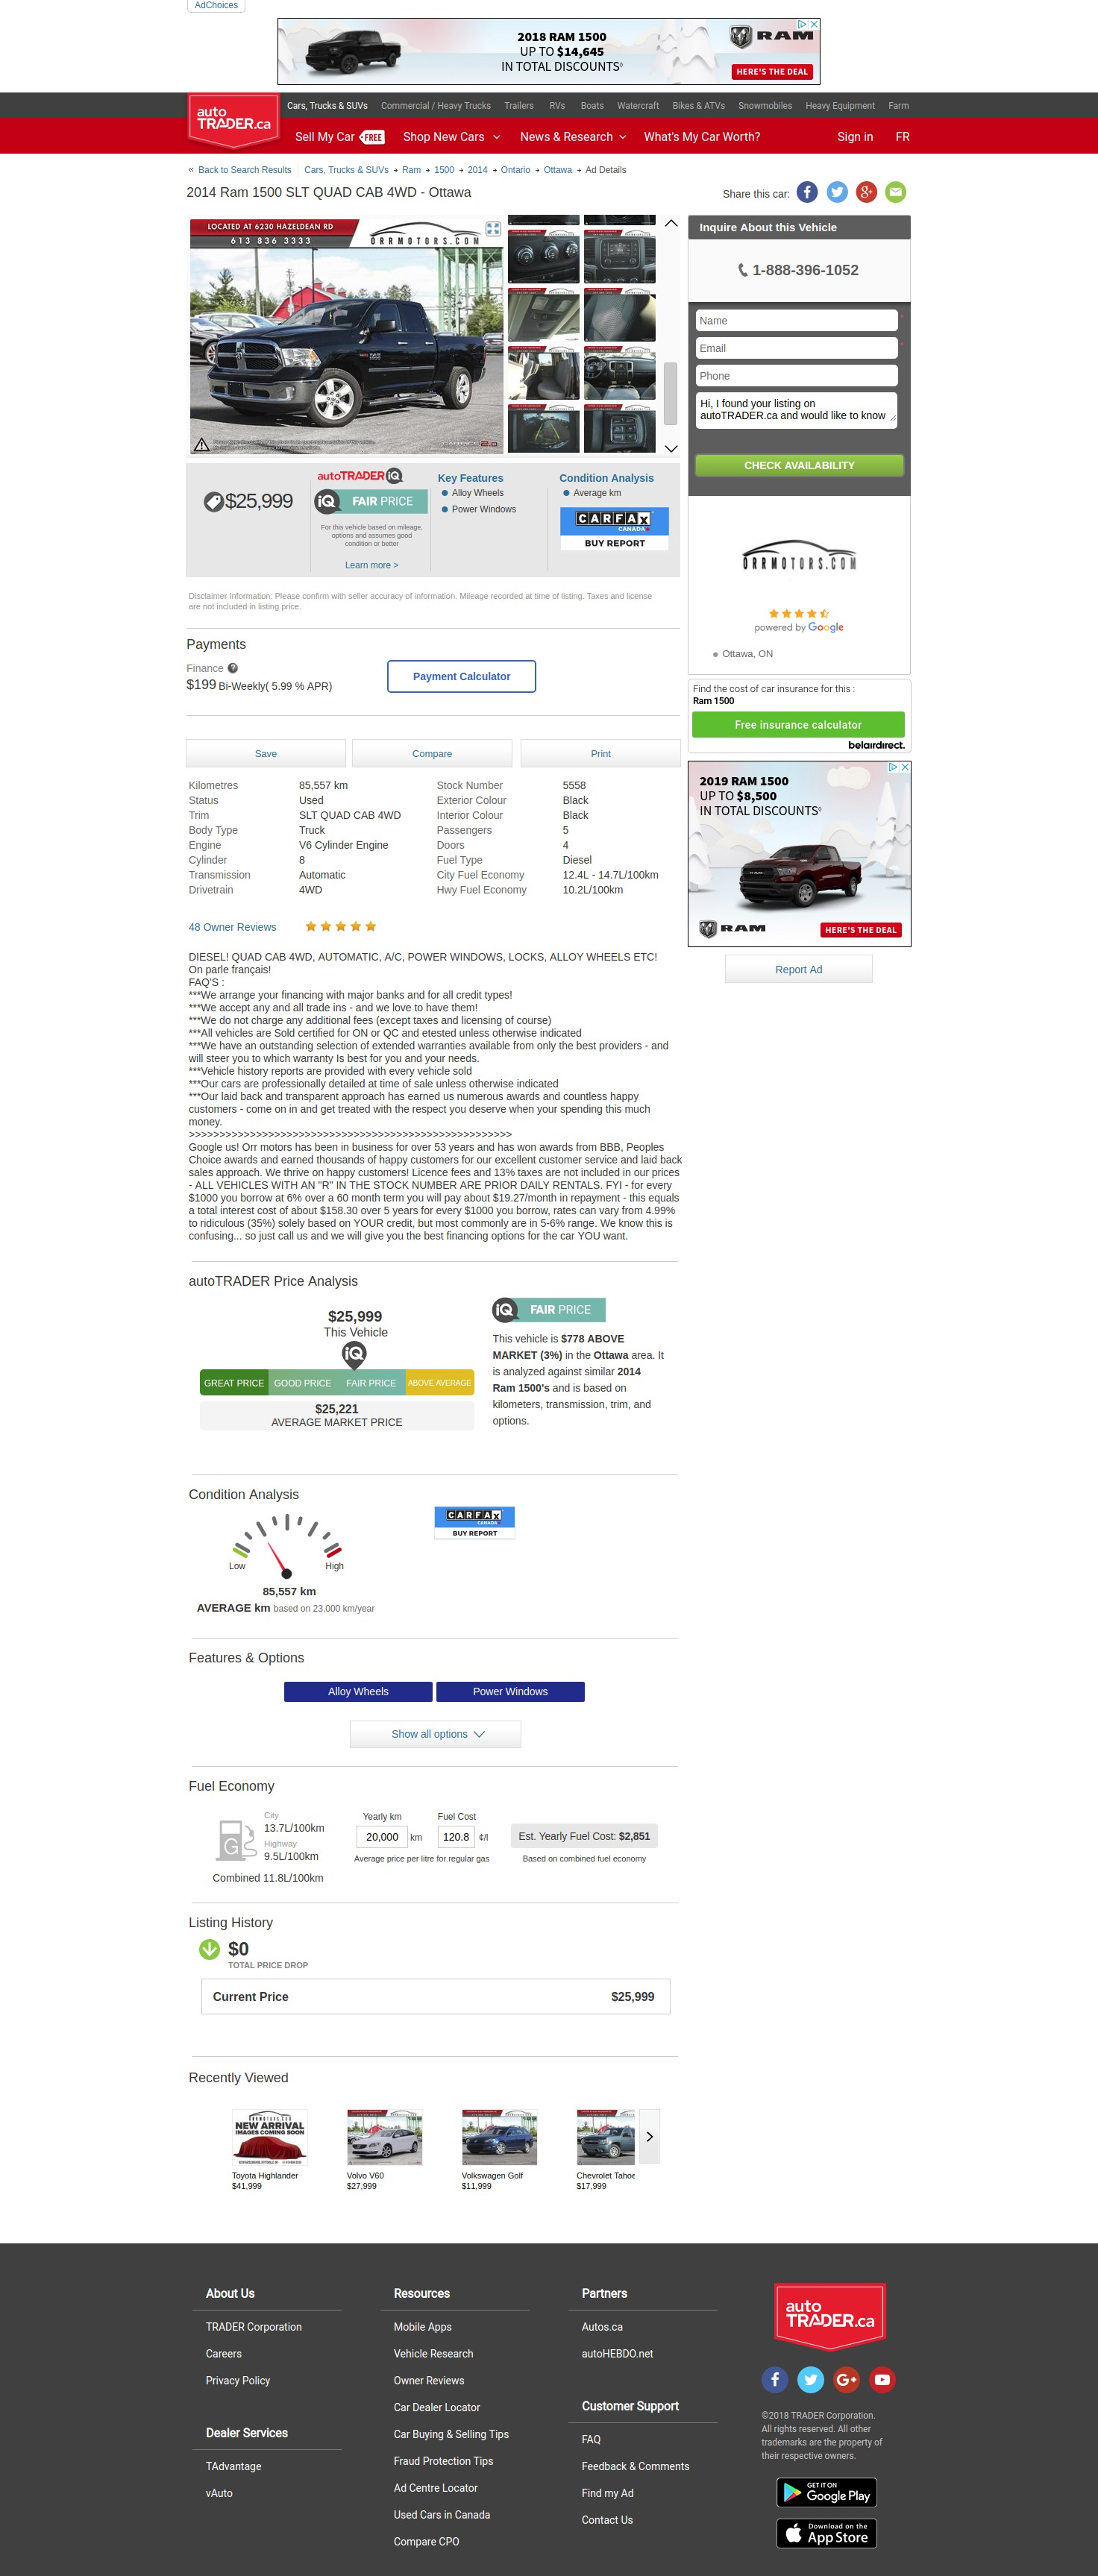car: (664, 445, 679, 453)
